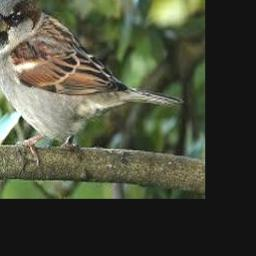Sparrow: (0, 0, 183, 163)
